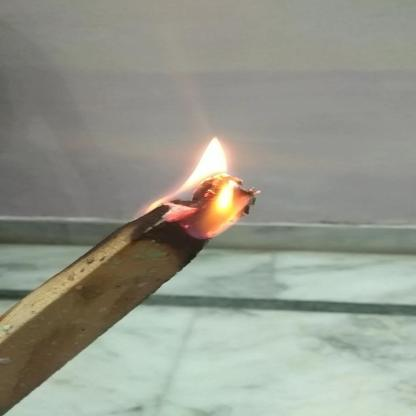fire: (133, 132, 276, 246)
